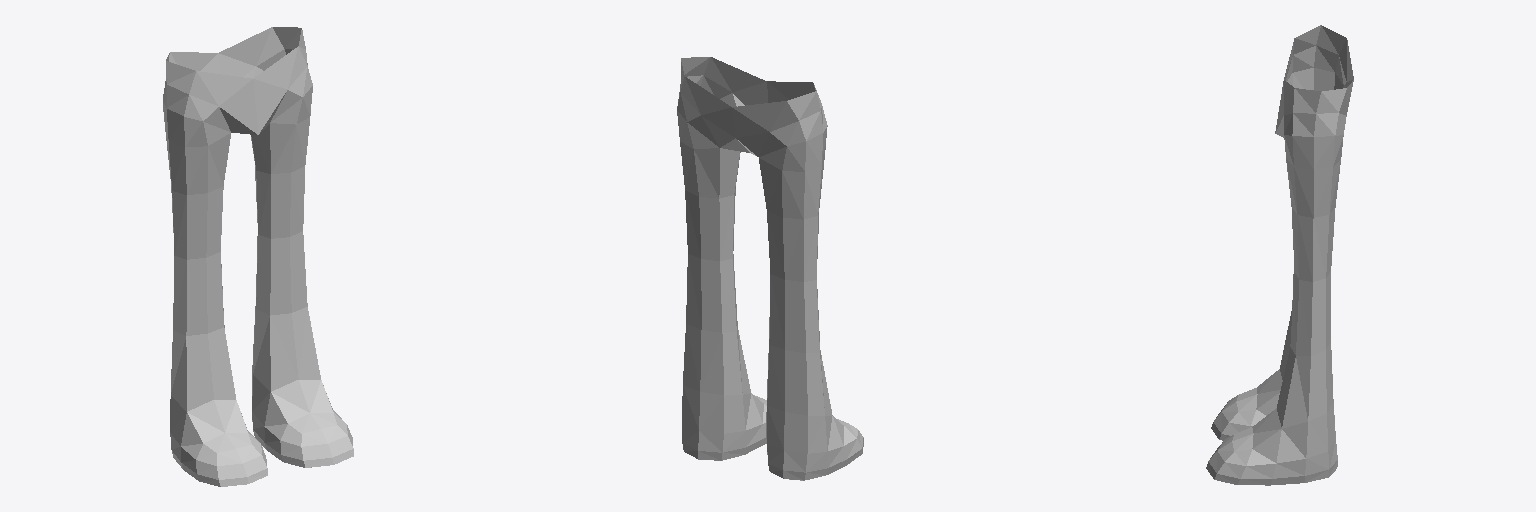
Rendered from Klayner(b).obj.
The picture shows the model from 3 angles: view 1: azimuth 30°, elevation 25°; view 2: azimuth 150°, elevation 25°; view 3: azimuth 270°, elevation 25°; orthographic projection.
Parts seen in each view (by area): view 1: Black_Cube.004; view 2: Black_Cube.004; view 3: Black_Cube.004.
Part boxes in pixels (x1,y1,x2,y2): Black_Cube.004: (163, 27, 353, 486); Black_Cube.004: (677, 57, 863, 480); Black_Cube.004: (1206, 25, 1353, 485).
Size of the model in its own units: 0.423 by 1.04 by 0.353.